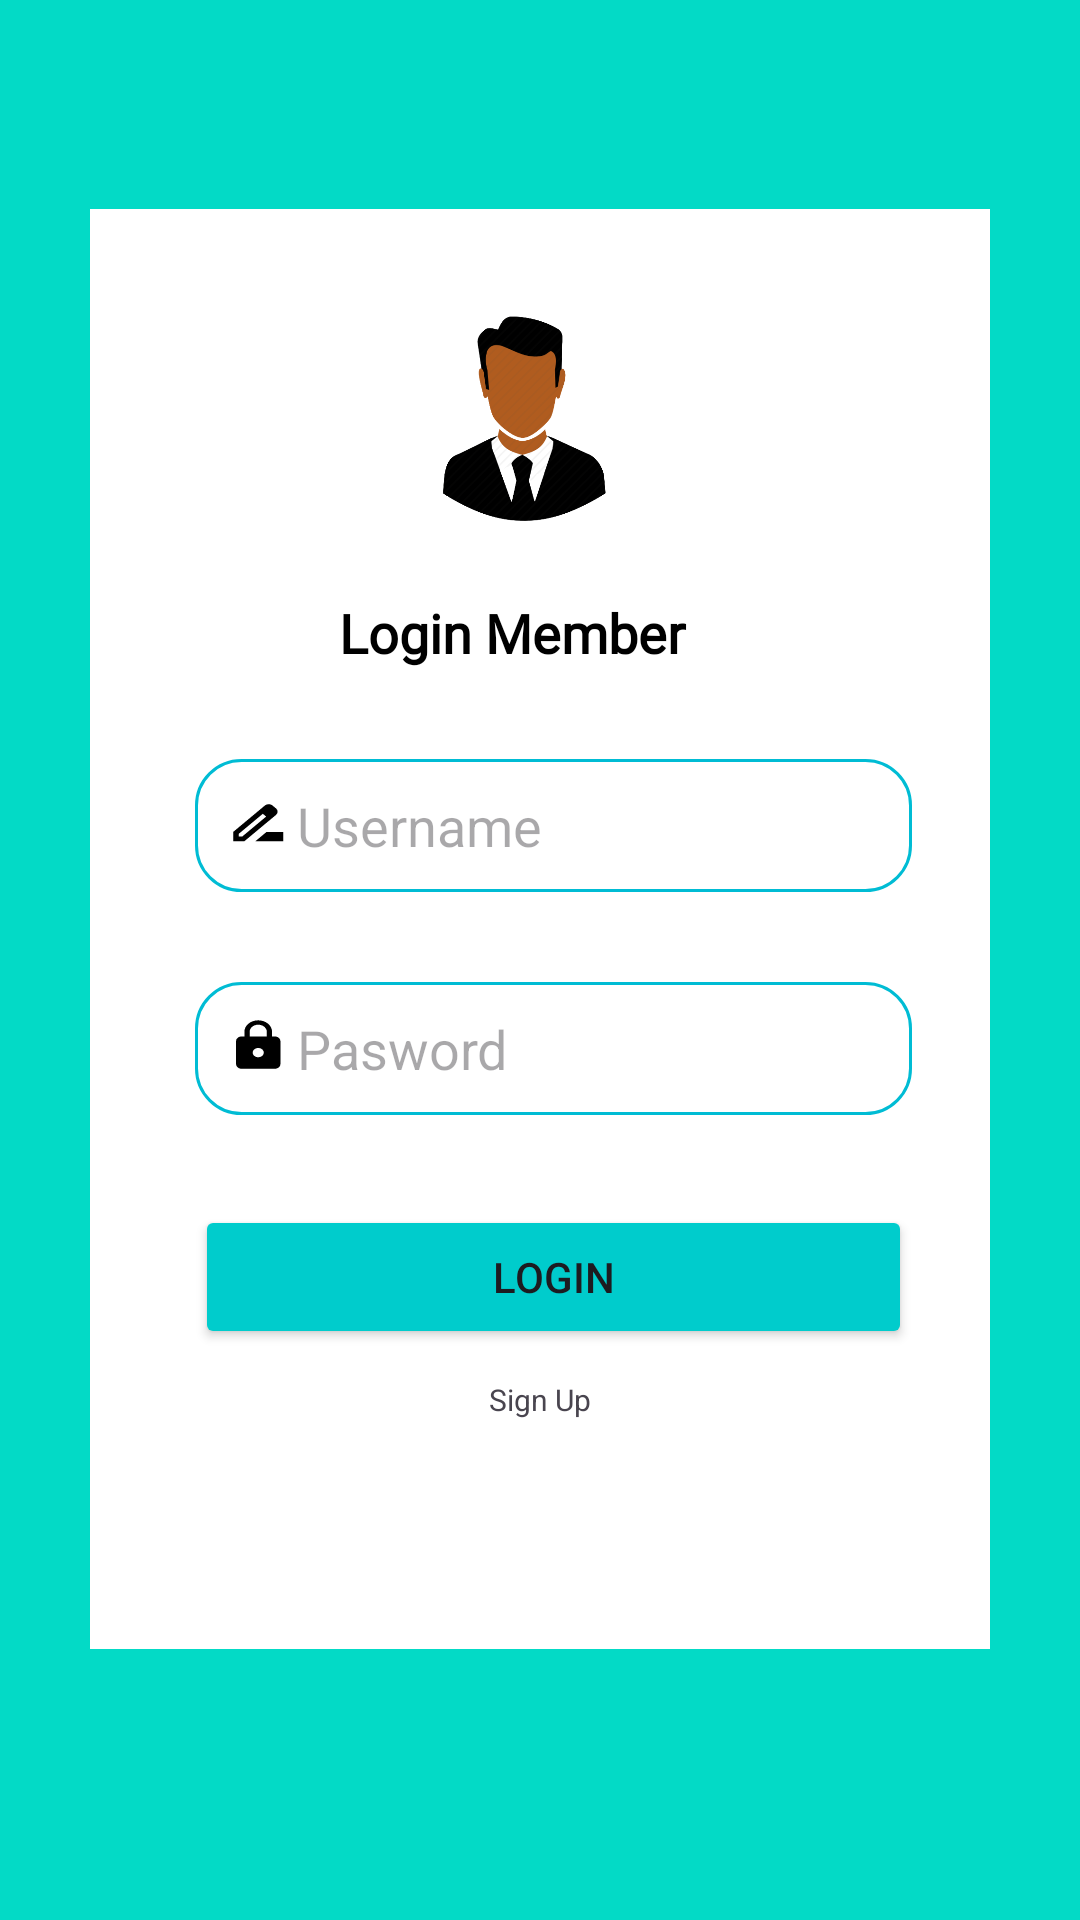

Named icons in this screenshot (1080×1920) and their bounding boxes, [left=x1, top=y1, right=x2, bottom=y2]:
orang: [left=443, top=316, right=606, bottom=521]
